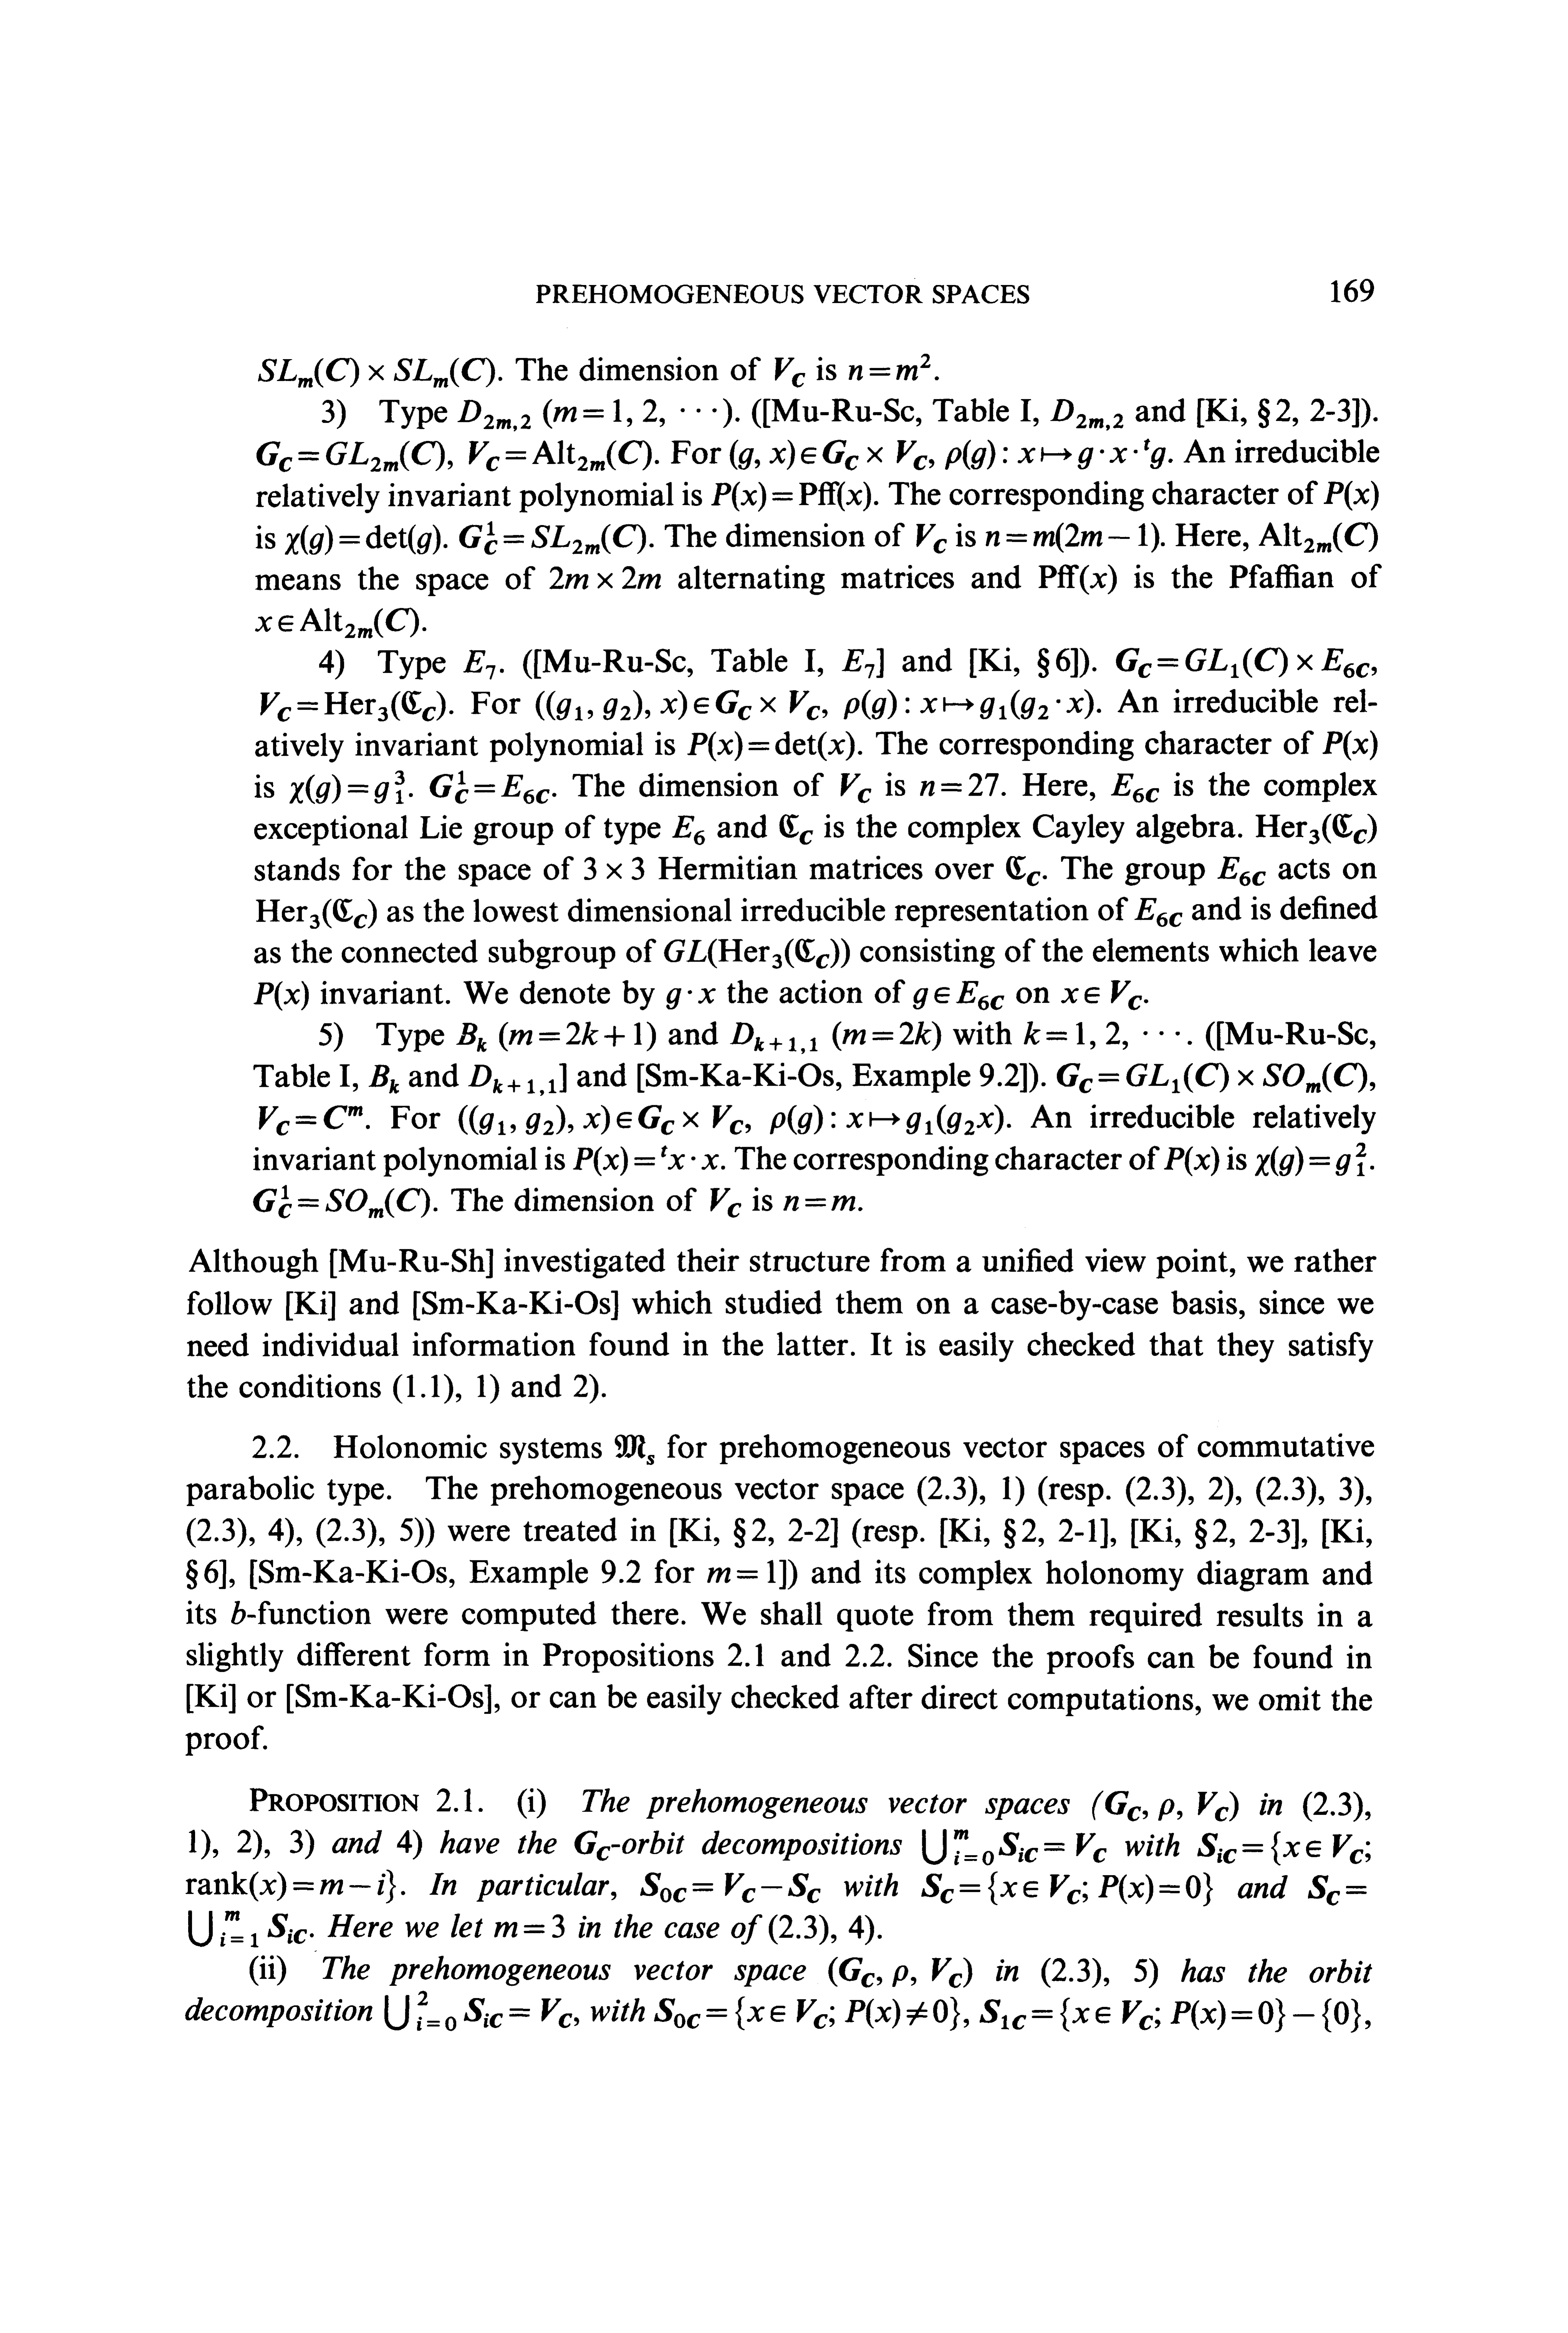maths: (980, 1997, 1370, 2032), (654, 1997, 970, 2030), (922, 1871, 1213, 1906), (1057, 1062, 1375, 1092), (536, 690, 819, 719), (458, 1104, 742, 1134), (385, 1990, 579, 2030), (1116, 648, 1369, 677), (843, 690, 1094, 719), (257, 357, 495, 387), (185, 1869, 396, 1902), (770, 1104, 1003, 1134), (922, 1829, 1106, 1866), (945, 439, 1165, 469), (730, 439, 927, 471), (458, 522, 646, 555), (1197, 1831, 1370, 1866), (254, 1185, 431, 1218), (469, 439, 651, 471), (257, 441, 445, 471), (663, 938, 851, 968), (261, 691, 445, 721), (641, 1873, 821, 1902), (985, 523, 1159, 553), (688, 732, 854, 761), (256, 607, 418, 637), (710, 481, 871, 511), (543, 399, 700, 429), (1092, 1790, 1239, 1822), (285, 525, 439, 555), (572, 1145, 717, 1176), (828, 1957, 973, 1988), (1024, 1020, 1179, 1048), (189, 1911, 306, 1946), (499, 1022, 642, 1050), (431, 770, 549, 803), (289, 770, 404, 803), (1258, 522, 1377, 553), (1255, 1143, 1367, 1176), (1255, 814, 1377, 844), (256, 898, 376, 928), (259, 1106, 362, 1136), (467, 1064, 556, 1096), (730, 1022, 817, 1054), (914, 980, 1004, 1010), (549, 565, 660, 590), (1061, 980, 1141, 1010), (1038, 564, 1116, 593), (457, 399, 530, 431), (1050, 399, 1123, 431), (849, 354, 931, 380), (843, 1020, 931, 1045), (1307, 1874, 1367, 1906), (921, 774, 999, 796), (1164, 1146, 1220, 1176), (1323, 730, 1377, 760), (254, 980, 308, 1010), (494, 1915, 563, 1937), (1323, 481, 1379, 509), (707, 1559, 775, 1582), (1218, 856, 1265, 886), (1134, 898, 1183, 926), (574, 1831, 619, 1860), (1111, 774, 1159, 802), (585, 858, 644, 879), (614, 1435, 654, 1465), (784, 1195, 856, 1211), (672, 816, 705, 845), (779, 814, 812, 844), (1006, 856, 1039, 886), (667, 989, 716, 1008), (464, 649, 495, 679), (840, 774, 871, 803), (842, 649, 875, 677), (775, 357, 805, 387), (917, 523, 947, 553), (457, 1022, 487, 1052), (710, 1188, 740, 1218), (369, 1064, 399, 1092), (231, 1601, 245, 1624)
